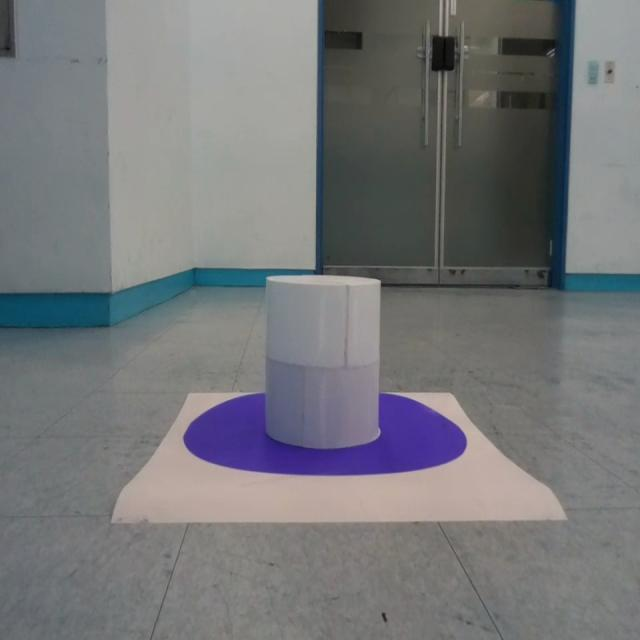cylinder: (265, 274, 382, 446)
